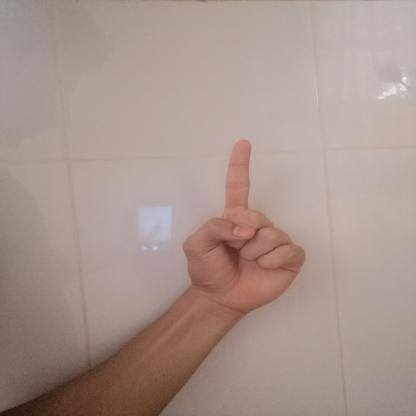BAA: (176, 127, 313, 318)
